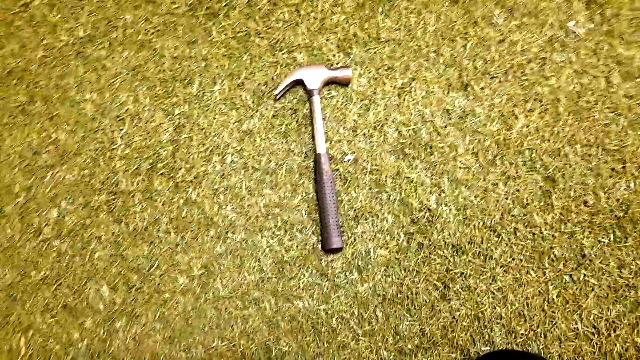hammer: (264, 62, 364, 260)
